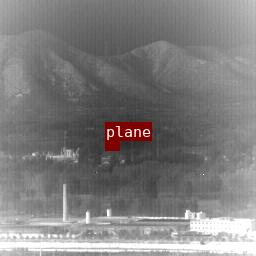plane: (105, 141, 119, 150)
